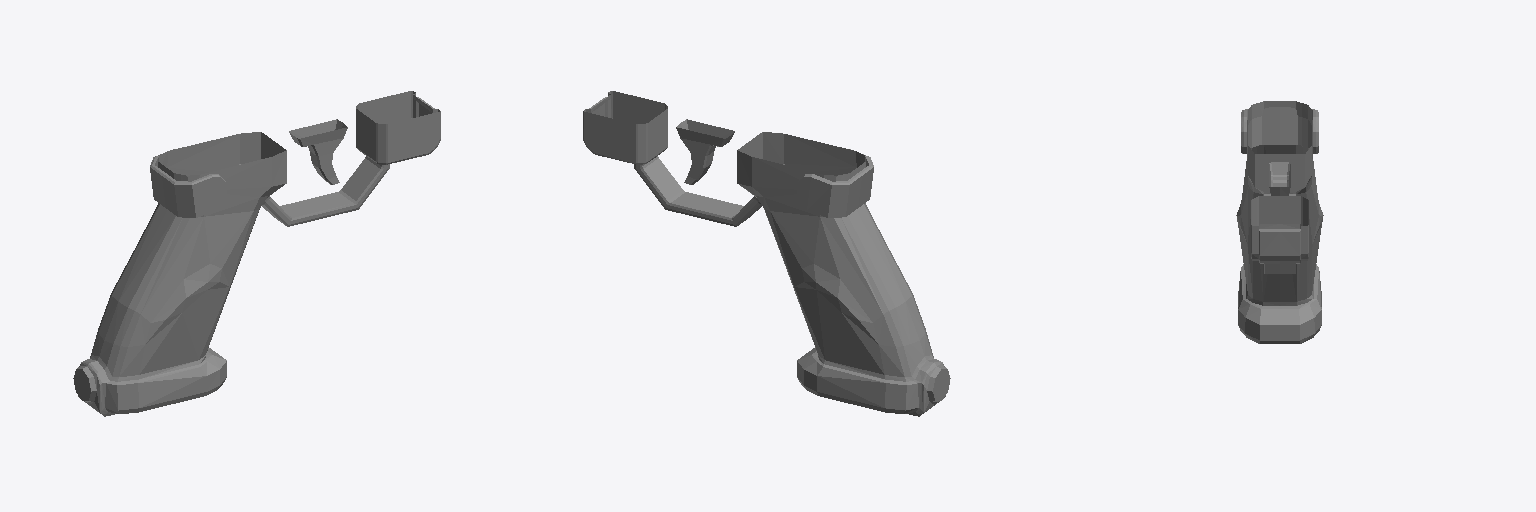
Rendered from AssaultRifles_Vladof_Grip_4.obj.
3 renders of one model, left to right at view 1: azimuth 30°, elevation 25°; view 2: azimuth 150°, elevation 25°; view 3: azimuth 270°, elevation 25°, orthographic.
Visible parts, largest first — view 1: SK_AR_VLA.351, SK_AR_VLA.350, SK_AR_VLA.349; view 2: SK_AR_VLA.351, SK_AR_VLA.350, SK_AR_VLA.349; view 3: SK_AR_VLA.351, SK_AR_VLA.350, SK_AR_VLA.349.
Boxes of the visible parts, <box> form: SK_AR_VLA.351: <box>73,91,440,416</box>; SK_AR_VLA.350: <box>150,149,226,217</box>; SK_AR_VLA.349: <box>289,119,347,184</box>; SK_AR_VLA.351: <box>583,91,950,416</box>; SK_AR_VLA.350: <box>797,149,873,217</box>; SK_AR_VLA.349: <box>676,119,734,184</box>; SK_AR_VLA.351: <box>1236,101,1323,343</box>; SK_AR_VLA.350: <box>1241,107,1318,153</box>; SK_AR_VLA.349: <box>1269,162,1290,195</box>.
Size of the model in its own units: 19.68 by 12.29 by 4.29.